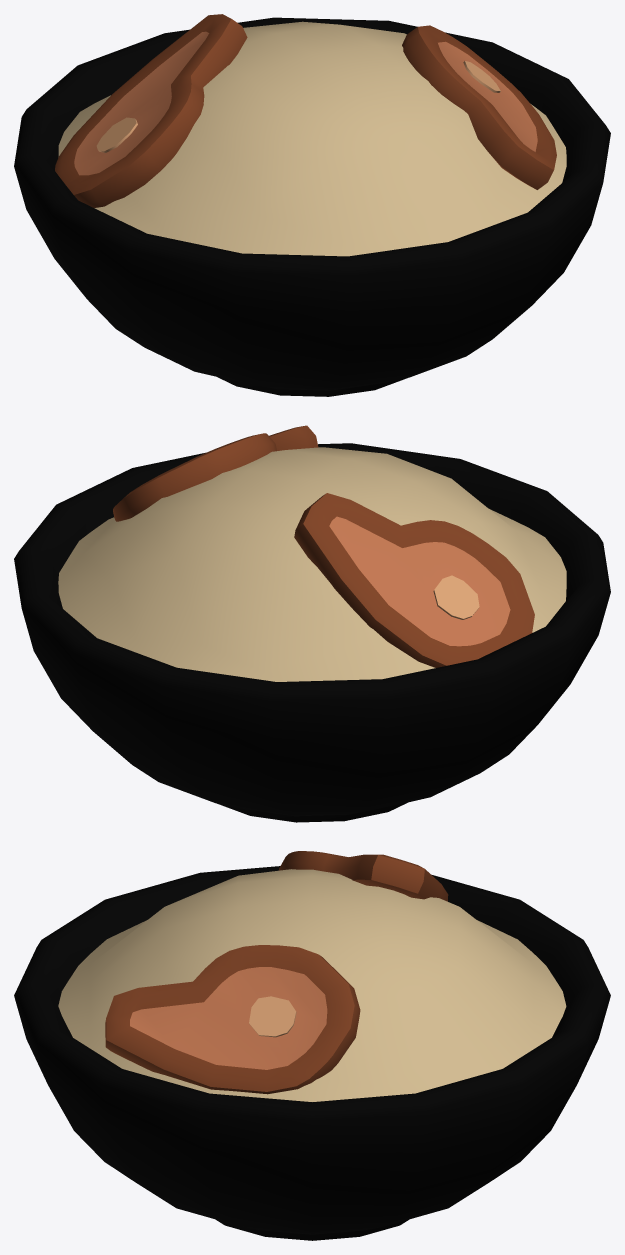
Rendered from ASFTR_Bowl_RiceHuman.fbx.
The picture shows the model from 3 angles, top to bottom: view 1: azimuth 30°, elevation 25°; view 2: azimuth 150°, elevation 25°; view 3: azimuth 270°, elevation 25°; orthographic projection.
Parts seen in each view (by area): view 1: ASFTR_Bowl_RiceHuman; view 2: ASFTR_Bowl_RiceHuman; view 3: ASFTR_Bowl_RiceHuman.
Part boxes in pixels (box(x1,y1,x2,y2)): ASFTR_Bowl_RiceHuman: box(14, 14, 610, 396); ASFTR_Bowl_RiceHuman: box(14, 425, 610, 822); ASFTR_Bowl_RiceHuman: box(14, 851, 610, 1240).
Bounding box in the file's own units: 60.78 × 34.88 × 60.78.
